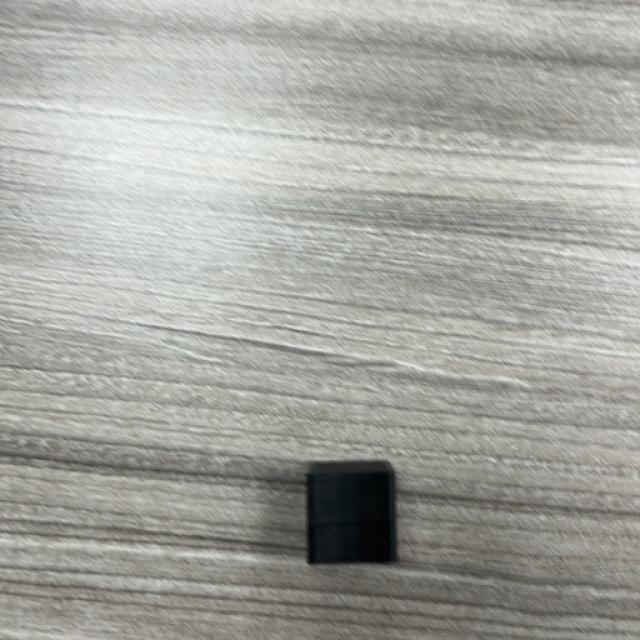Negro: (306, 461, 400, 568)
